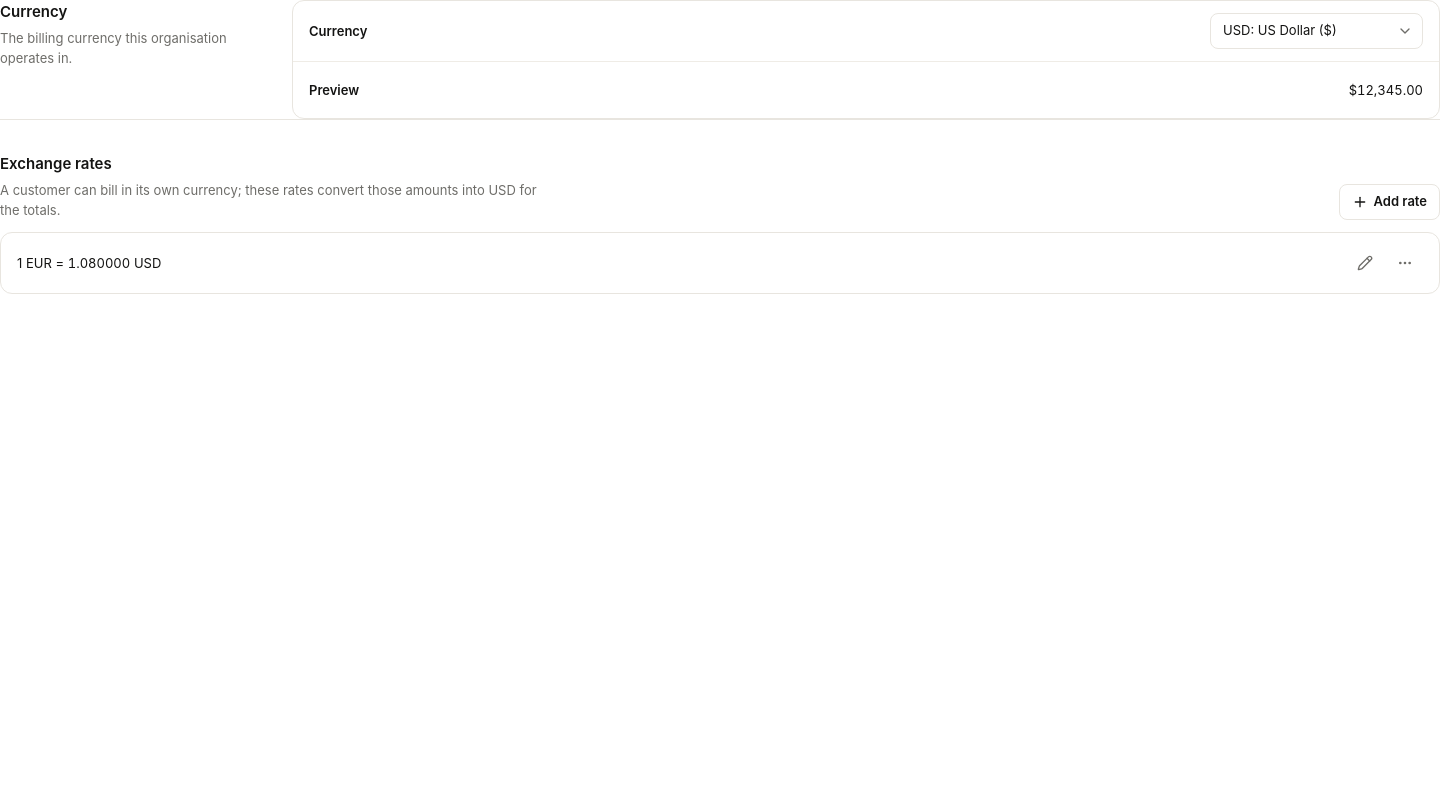
Scenario: CurrencySection › Exchange Rates › deleting a rate removes it after confirming
Click the button named "More actions for EUR": [1405, 263] box x1=1387 y1=245 x2=1423 y2=281
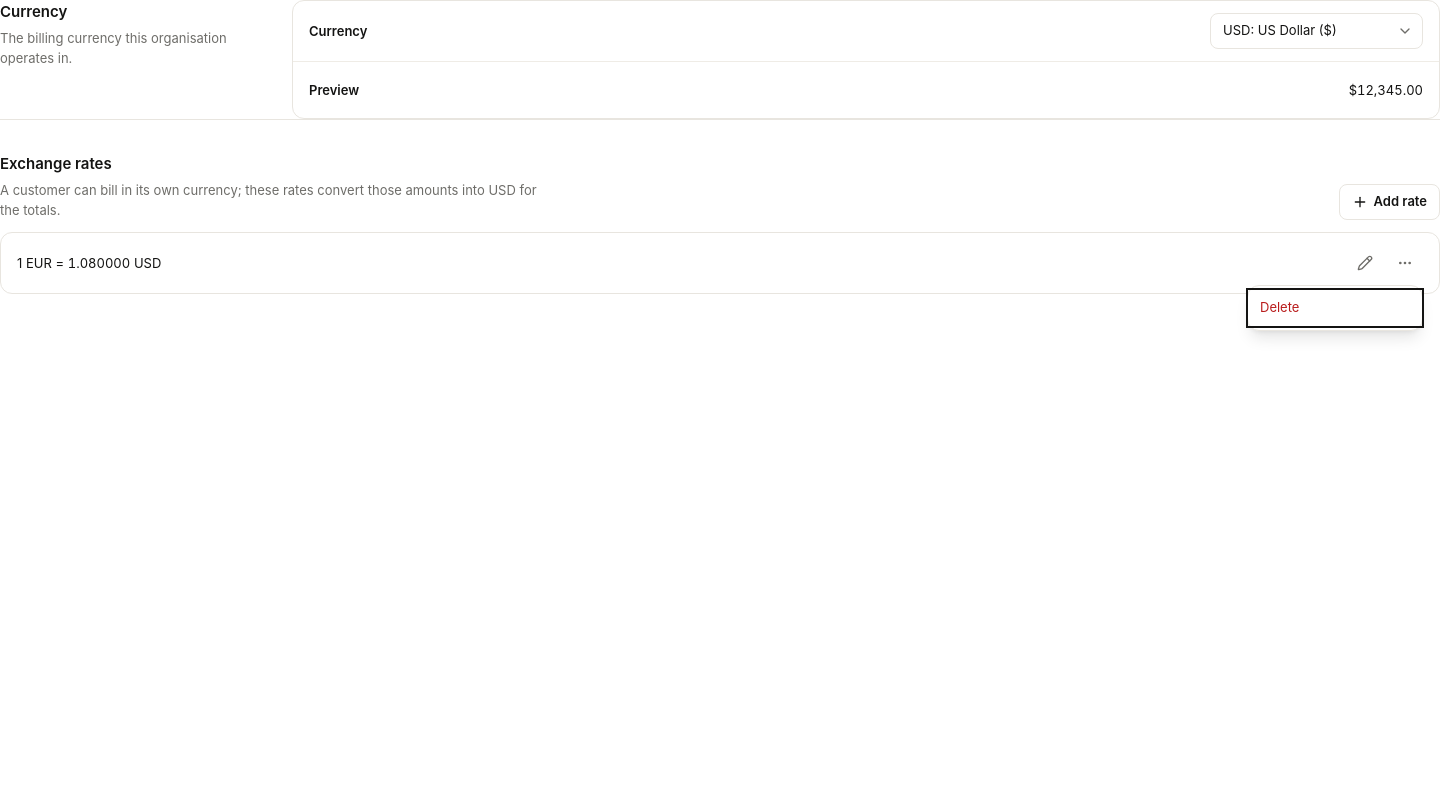
Click the menu item "Delete": [1335, 308] box x1=1248 y1=290 x2=1422 y2=326
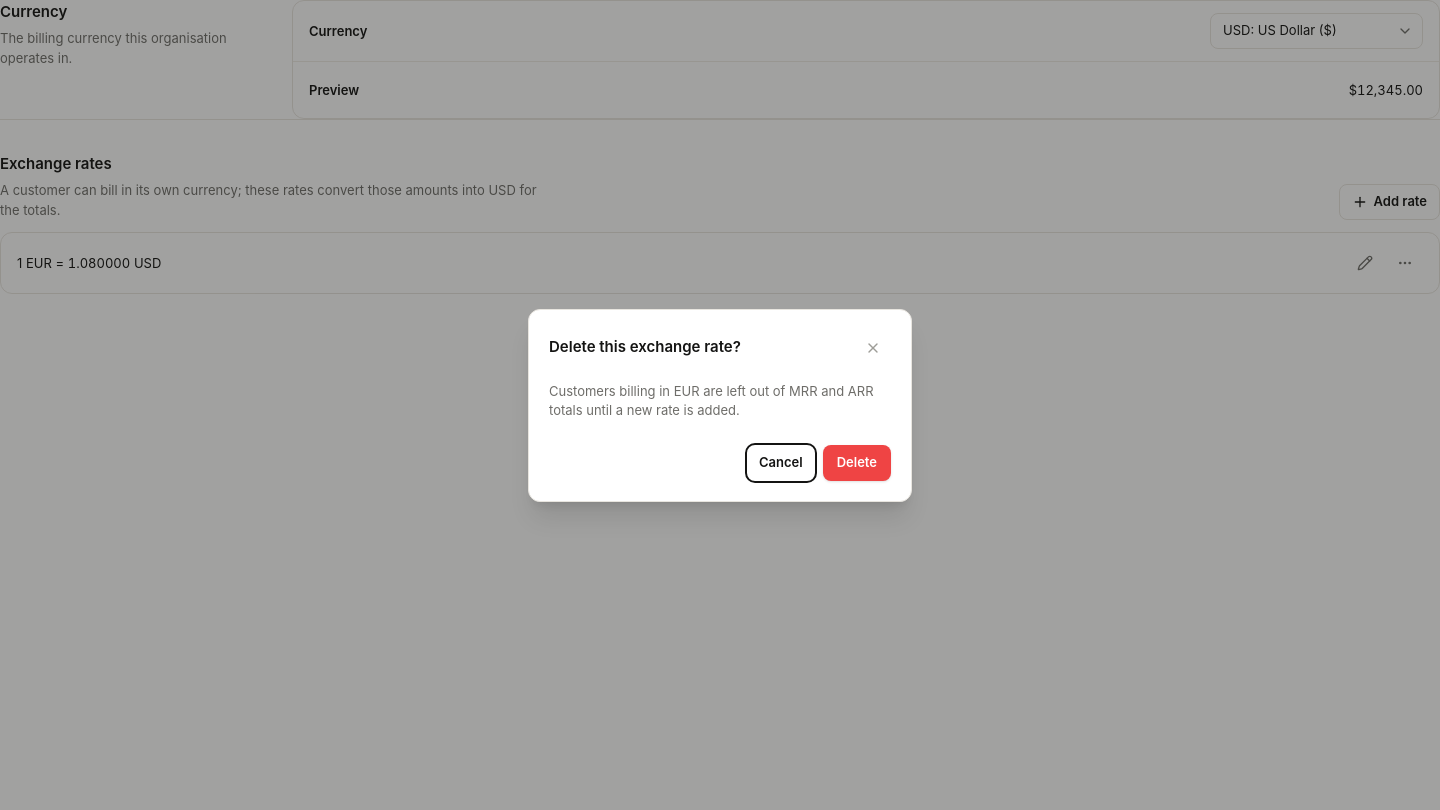
Click the button "Delete": [857, 462] box x1=823 y1=444 x2=891 y2=480
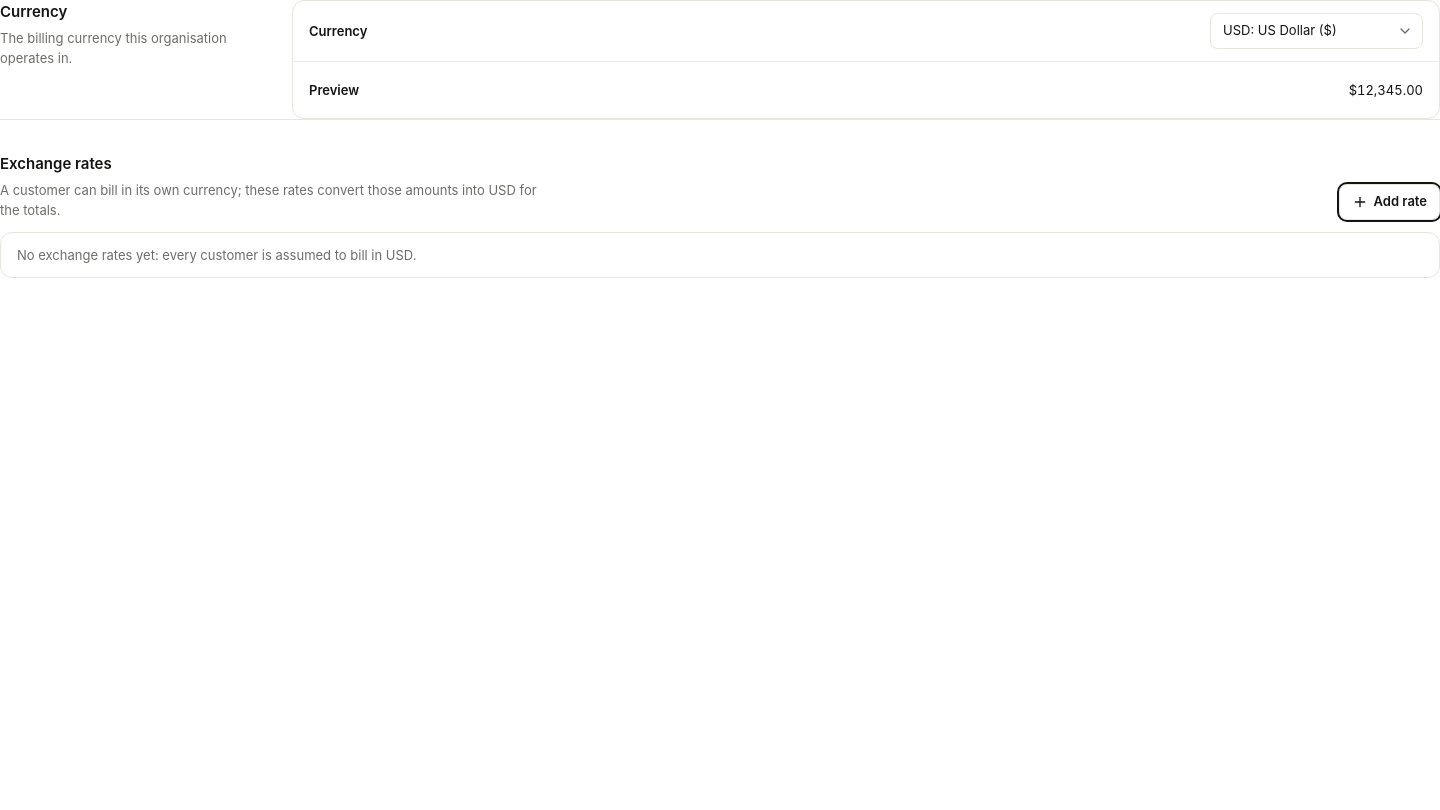
Expected: the text "every customer is assumed to bill in USD" is shown, x1=17 y1=247 x2=416 y2=263
